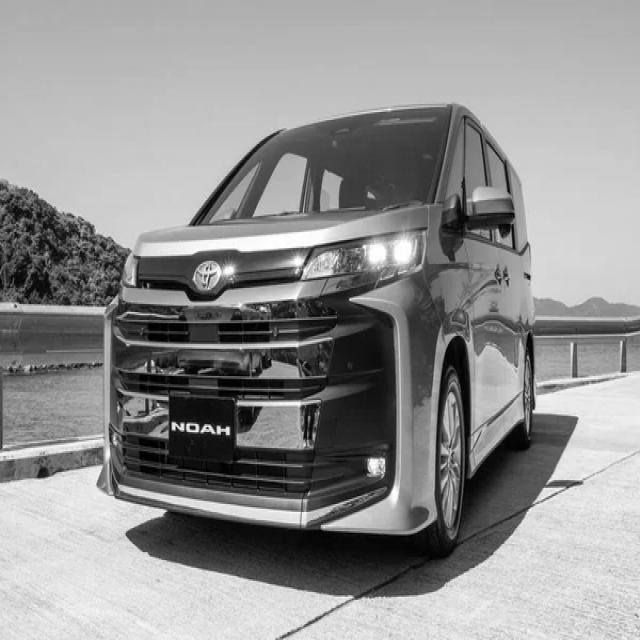Car: (98, 106, 537, 556)
